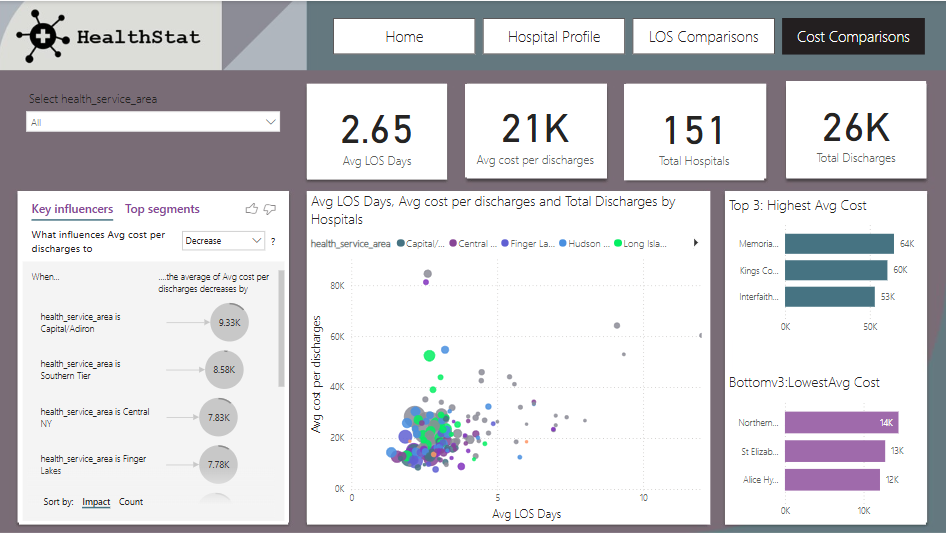

The page's visual inventory and layout, read from the dashboard file:
{"tool":"powerbi","page":{"name":"Cost Comparisons","canvas":[1280,720],"ordinal":3},"visuals":[{"type":"scatterChart","title":"Avg LOS Days, Avg cost per discharges and Total Discharges by Hospitals","fields":{"Category":["hospital_discharges.facility_name"],"X":["__Measure.Avg LOS Days"],"Y":["__Measure.Avg cost per discharges"],"Size":["__Measure.Total Discharges"],"Series":["hospital_discharges.health_service_area"]},"box":[418.1,256.3,543.6,450.5],"z":0},{"type":"slicer","fields":{"Values":["hospital_discharges.health_service_area"]},"box":[29.1,116.4,362.2,120.7],"z":1000},{"type":"keyDriversVisual","fields":{"ExplainBy":["hospital_discharges.apr_risk_of_mortality","hospital_discharges.apr_severity_of_illness_description","hospital_discharges.ccs_diagnosis_description","hospital_discharges.patient_disposition","hospital_discharges.gender","hospital_discharges.Age Bins","Surgical_program_Size_Summery.Surgical_program_Size","hospital_discharges.health_service_area"],"Target":["__Measure.Avg cost per discharges"]},"box":[29.7,256.3,362.8,450.5],"z":1001},{"type":"card","fields":{"Values":["__Measure.Avg LOS Days"]},"box":[417.5,112,189.1,129.5],"z":1002},{"type":"card","fields":{"Values":["__Measure.Avg cost per discharges"]},"box":[631,111.8,188.9,125.9],"z":1003},{"type":"card","fields":{"Values":["__Measure.Total Hospitals"]},"box":[845.6,111.8,188.9,129.8],"z":1004},{"type":"card","fields":{"Values":["__Measure.Total Discharges"]},"box":[1064.1,108,188.9,129.8],"z":1005},{"type":"clusteredBarChart","title":"Top 3: Highest Avg Cost","fields":{"Category":["hospital_discharges.facility_name"],"Y":["__Measure.Avg cost per discharges"]},"box":[981.9,261.7,271.1,195.6],"z":1006},{"type":"clusteredBarChart","title":"Bottomv3:LowestAvg Cost ","fields":{"Category":["hospital_discharges.facility_name"],"Y":["__Measure.Avg cost per discharges"]},"box":[981.9,500.4,271.1,206.4],"z":1007},{"type":"pageNavigator","box":[453.2,22.9,799.8,49.9],"z":1008}]}

Visuals, with their boxes in screenshot pixels (x1, y1, x2, y2), scaled from the page's 1280x720 canvas onto the 946x533 screenshot:
"Avg LOS Days, Avg cost per discharges and Total Discharges by Hospitals" scatterChart: (left=309, top=190, right=711, bottom=523)
slicer - hospital_discharges.health_service_area: (left=22, top=86, right=289, bottom=176)
keyDriversVisual - hospital_discharges.apr_risk_of_mortality x hospital_discharges.apr_severity_of_illness_description: (left=22, top=190, right=290, bottom=523)
card - __Measure.Avg LOS Days: (left=309, top=83, right=448, bottom=179)
card - __Measure.Avg cost per discharges: (left=466, top=83, right=606, bottom=176)
card - __Measure.Total Hospitals: (left=625, top=83, right=765, bottom=179)
card - __Measure.Total Discharges: (left=786, top=80, right=926, bottom=176)
"Top 3: Highest Avg Cost" clusteredBarChart: (left=726, top=194, right=926, bottom=339)
"Bottomv3:LowestAvg Cost " clusteredBarChart: (left=726, top=370, right=926, bottom=523)
pageNavigator: (left=335, top=17, right=926, bottom=54)
